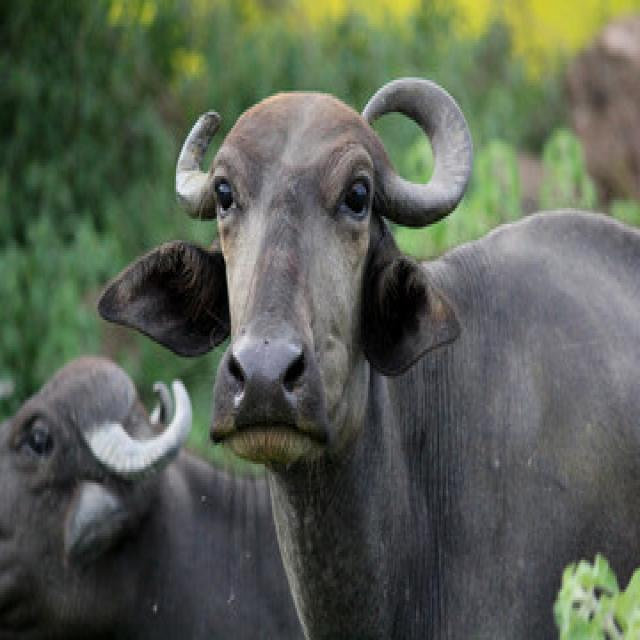Buffalo: (102, 83, 640, 640)
